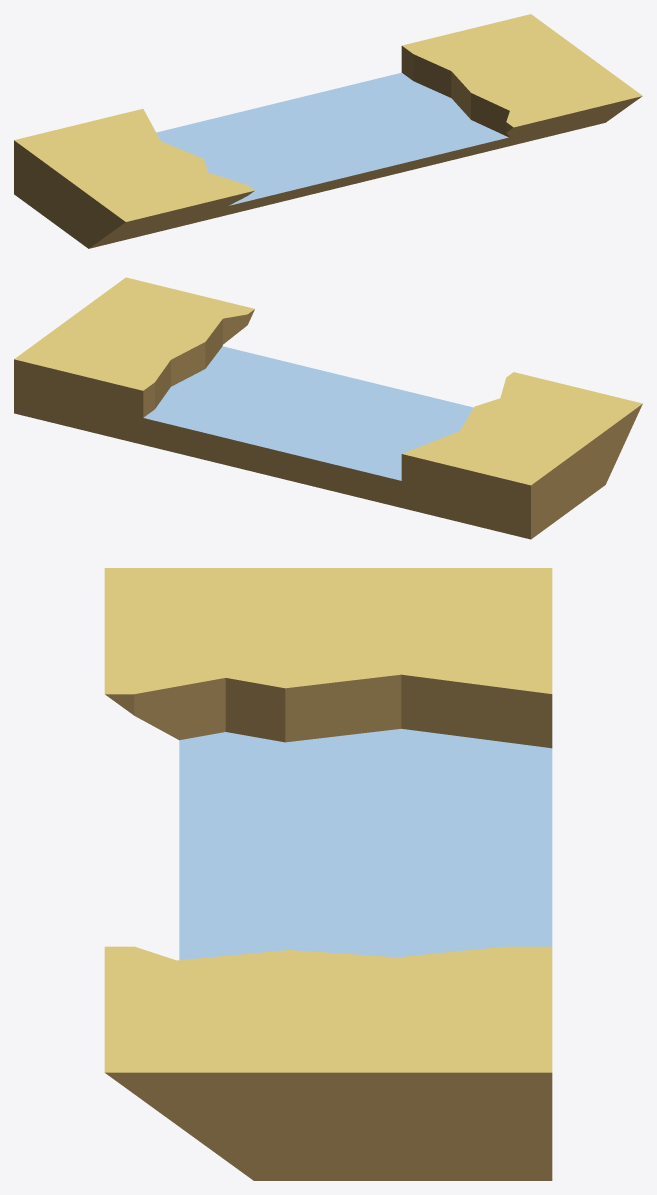
The model's file is Terrain_Modular_Tiles_Sand_Dirt_Cliff_Edge_River_Outer_01.fbx.
The picture shows the model from 3 angles, top to bottom: view 1: azimuth 30°, elevation 25°; view 2: azimuth 150°, elevation 25°; view 3: azimuth 270°, elevation 25°; orthographic projection. The views are drawn at different scales.
Parts seen in each view (by area): view 1: Terrain_Modular_Tiles_Sand_Dirt_Cliff_Edge_River_Outer_01; view 2: Terrain_Modular_Tiles_Sand_Dirt_Cliff_Edge_River_Outer_01; view 3: Terrain_Modular_Tiles_Sand_Dirt_Cliff_Edge_River_Outer_01.
Part boxes in pixels (x1,y1,x2,y2): Terrain_Modular_Tiles_Sand_Dirt_Cliff_Edge_River_Outer_01: (14, 14, 642, 248); Terrain_Modular_Tiles_Sand_Dirt_Cliff_Edge_River_Outer_01: (14, 277, 642, 539); Terrain_Modular_Tiles_Sand_Dirt_Cliff_Edge_River_Outer_01: (104, 568, 552, 1180).
Bounding box in the file's own units: 3000 × 300 × 1125.
